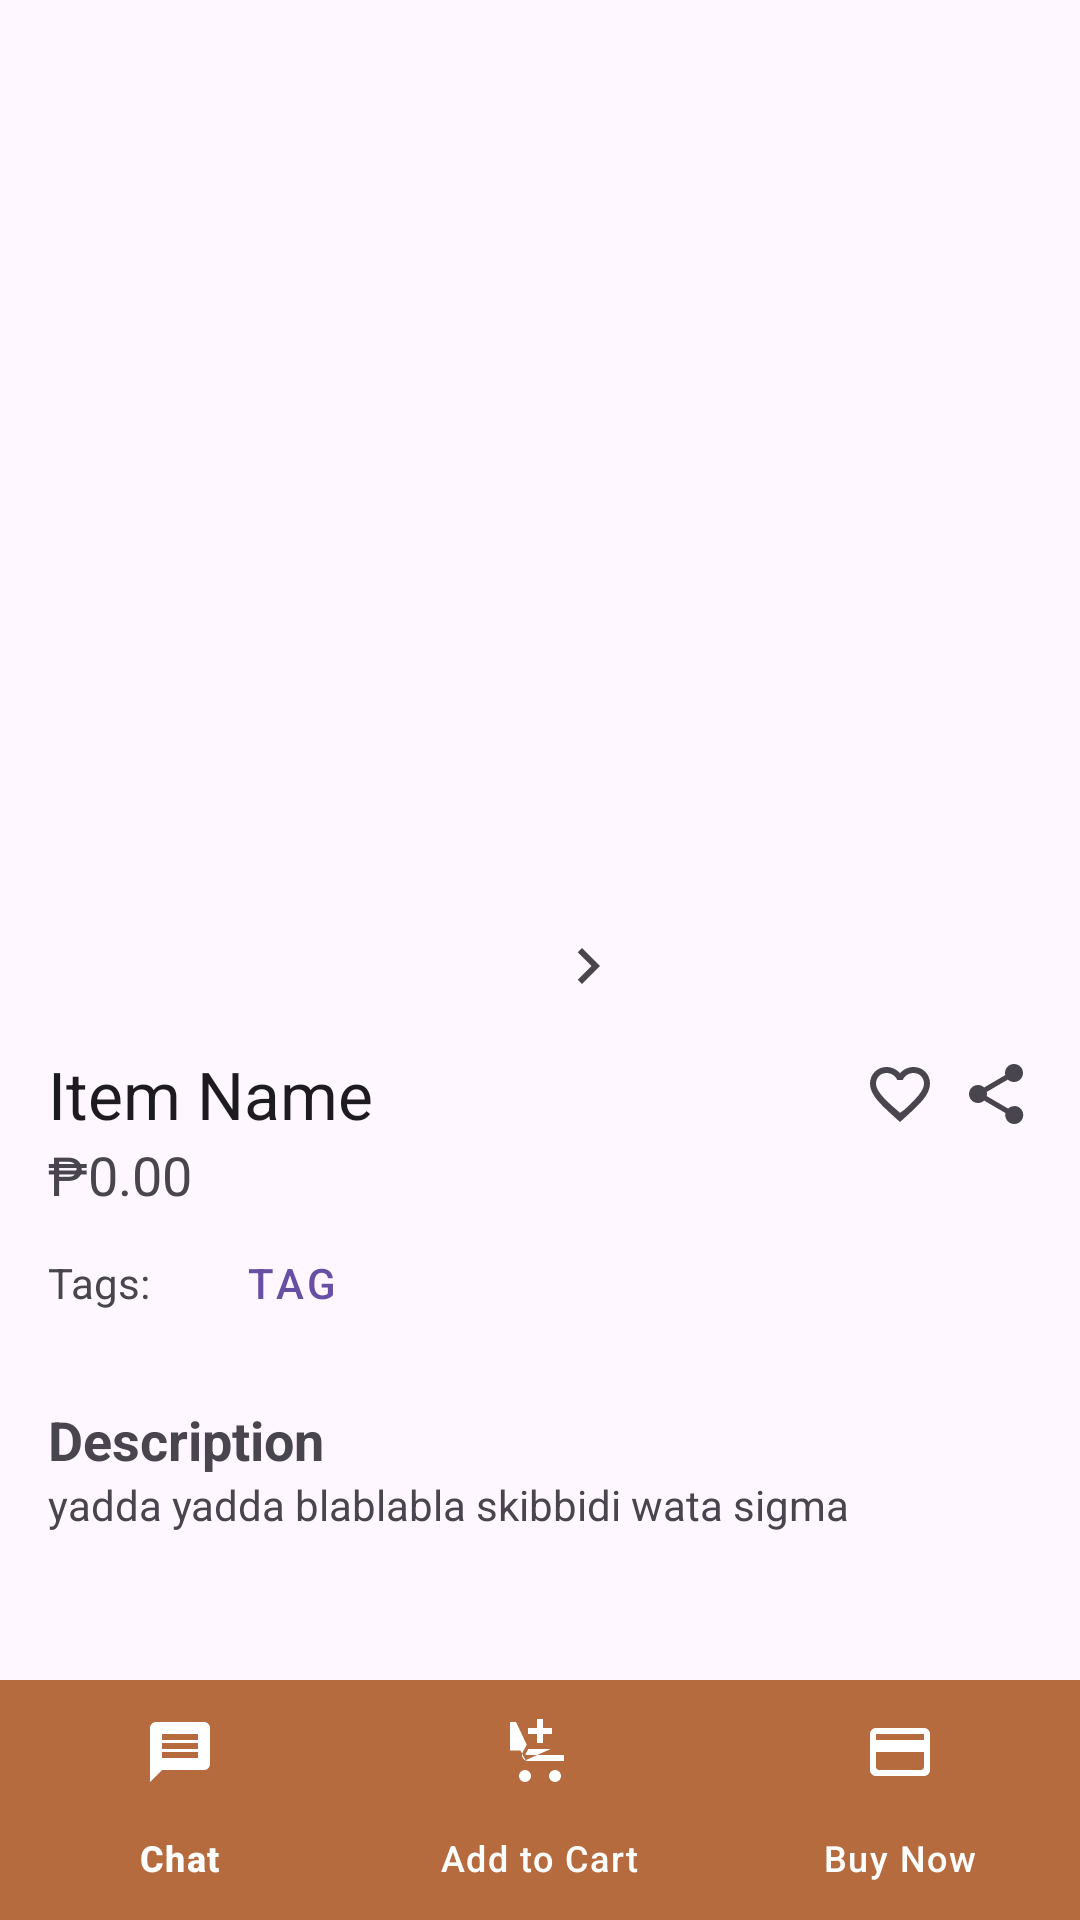

Named icons in this screenshot (1080w x 1920h) and their centers, (x,y):
Add to Wishlist: (900,1094)
Next Image: (589,966)
Share Item: (996,1094)
